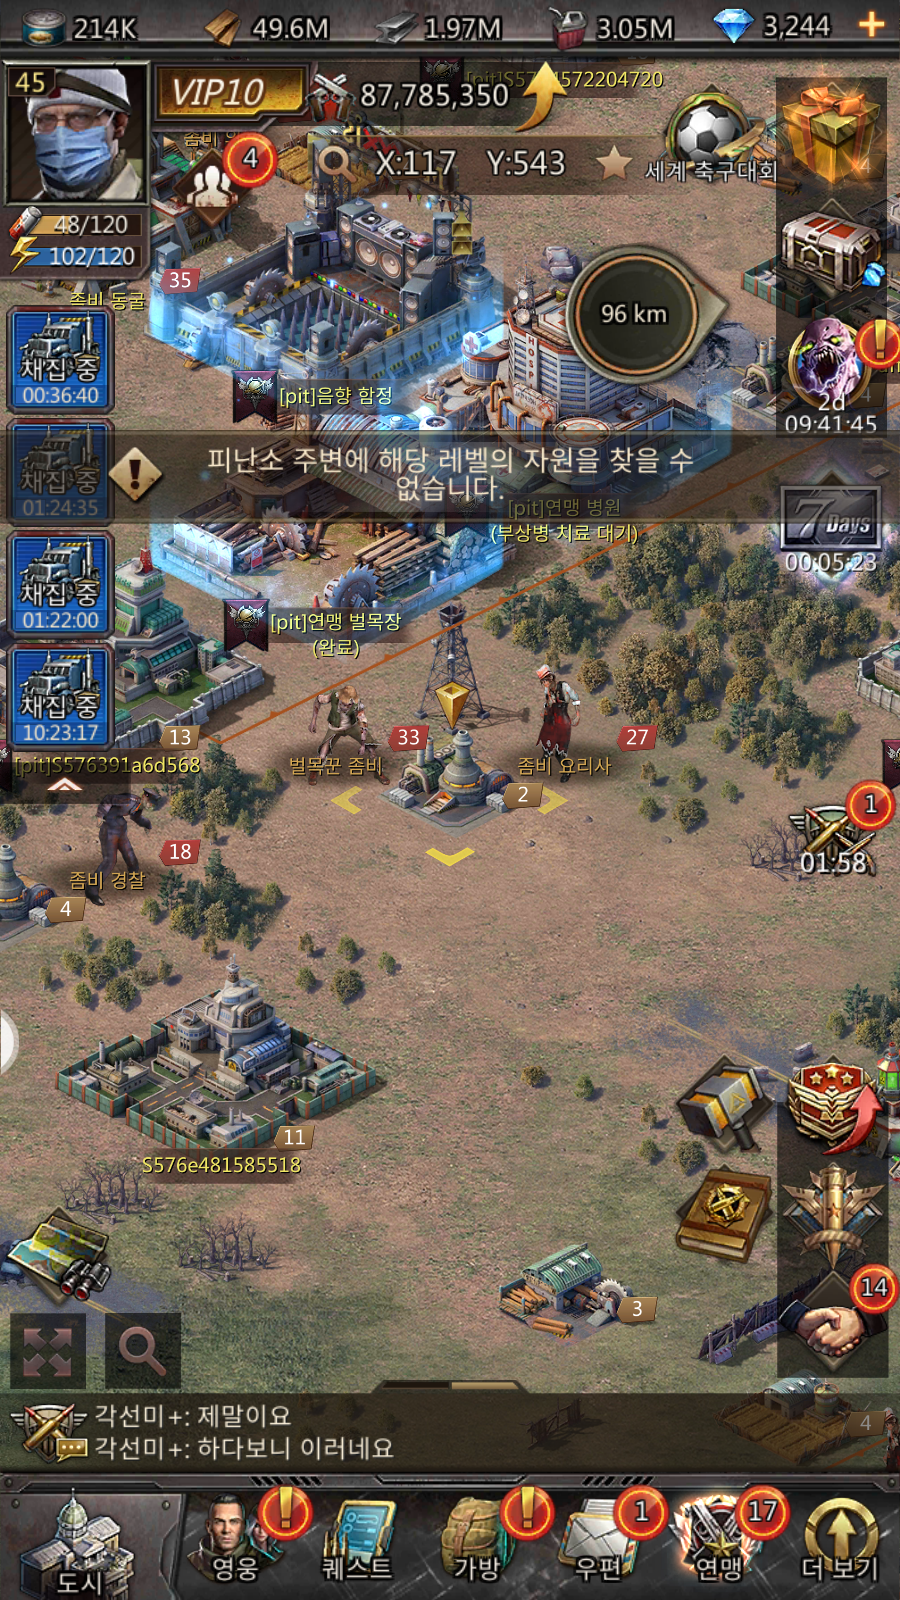city: (11, 1496, 181, 1600)
empty_steel: (315, 662, 611, 878)
not_found_rss: (87, 431, 727, 527)
open_panel: (98, 1307, 200, 1389)
troops_cnt_4: (165, 125, 285, 242)
